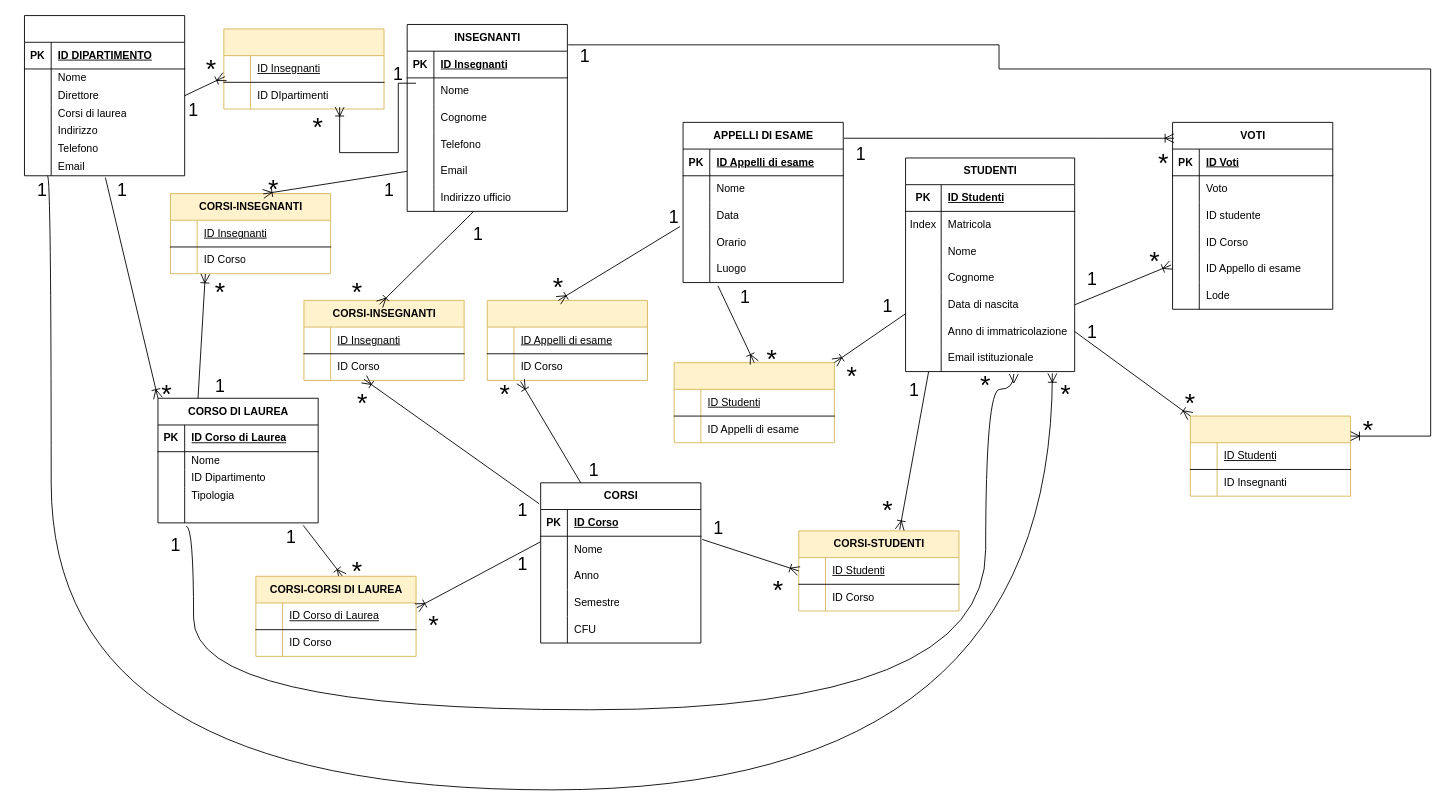
The diagram is 1455 pixels wide and 805 high, and some of its shapes have lost their labels. The box of each missing label's shape, as (x1, y1, x2, y2) in pixels:
CORSI-APPELLI DI ESAME: (486, 299, 647, 380)
DIPARTIMENTI: (24, 15, 185, 176)
DIPARTIMENTI-INSEGNANTI: (223, 28, 384, 109)
INSEGNANTI-STUDENTI: (1189, 415, 1351, 496)
STUDENTI-APPELLI DI ESAME: (673, 362, 834, 443)
